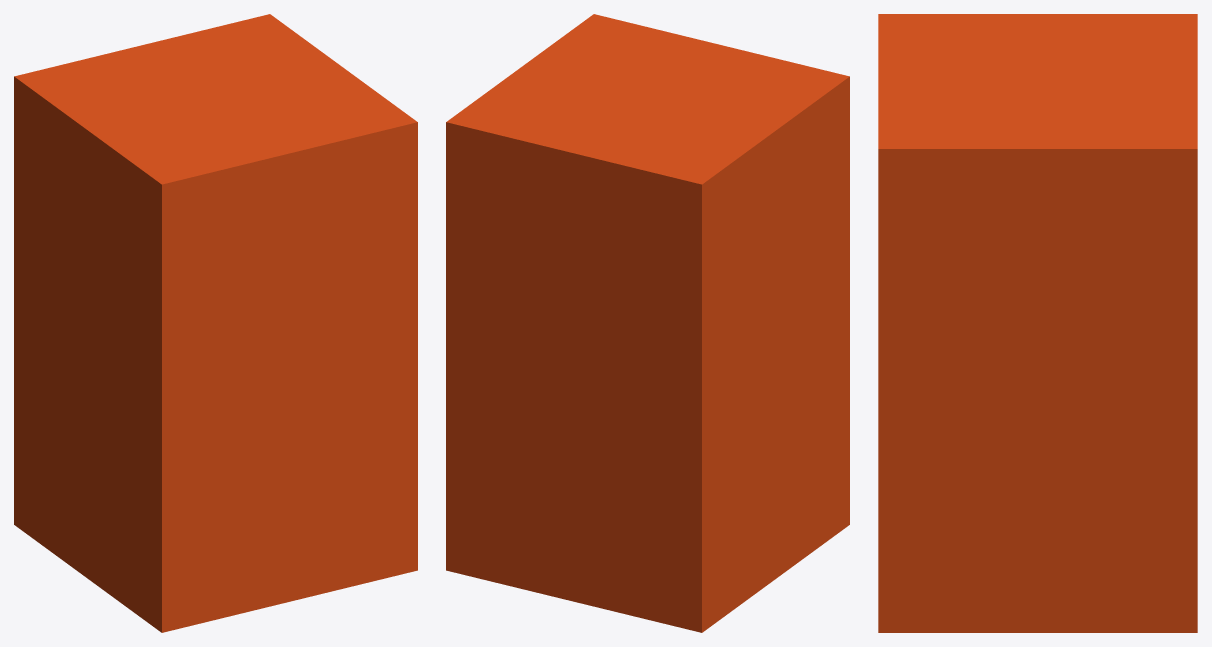
Rendered from player.glb.
The picture shows the model from 3 angles, left to right: view 1: azimuth 30°, elevation 25°; view 2: azimuth 150°, elevation 25°; view 3: azimuth 270°, elevation 25°; orthographic projection. The views are drawn at different scales.
Visible parts, largest first — view 1: Cube; view 2: Cube; view 3: Cube.
Part boxes in pixels (bbox=[...]): Cube: bbox=[14, 14, 417, 632]; Cube: bbox=[446, 14, 849, 632]; Cube: bbox=[878, 14, 1197, 632].
Bounding box in the file's own units: 2 × 3.35 × 2.
